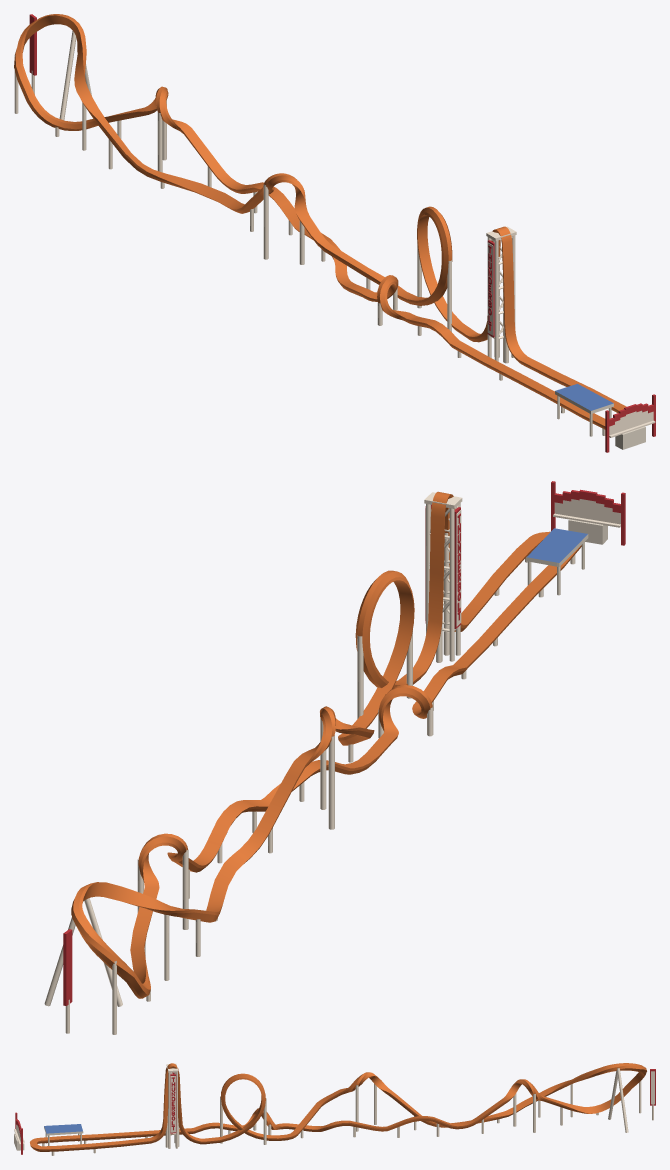
The model's file is nyc-thunderbolt.glb.
3 renders of one model, top to bottom at view 1: azimuth 30°, elevation 25°; view 2: azimuth 150°, elevation 25°; view 3: azimuth 270°, elevation 25°, orthographic. The views are drawn at different scales.
Visible parts, largest first — view 1: Thunderbolt; view 2: Thunderbolt; view 3: Thunderbolt.
Part boxes in pixels (x1,y1,x2,y2): Thunderbolt: (14, 14, 655, 452); Thunderbolt: (44, 481, 625, 1034); Thunderbolt: (14, 1063, 655, 1155).
Bounding box in the file's own units: 44.42 × 36.57 × 258.
